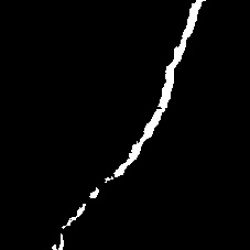crack: (105, 1, 205, 181), (62, 205, 85, 230), (90, 186, 98, 199)
